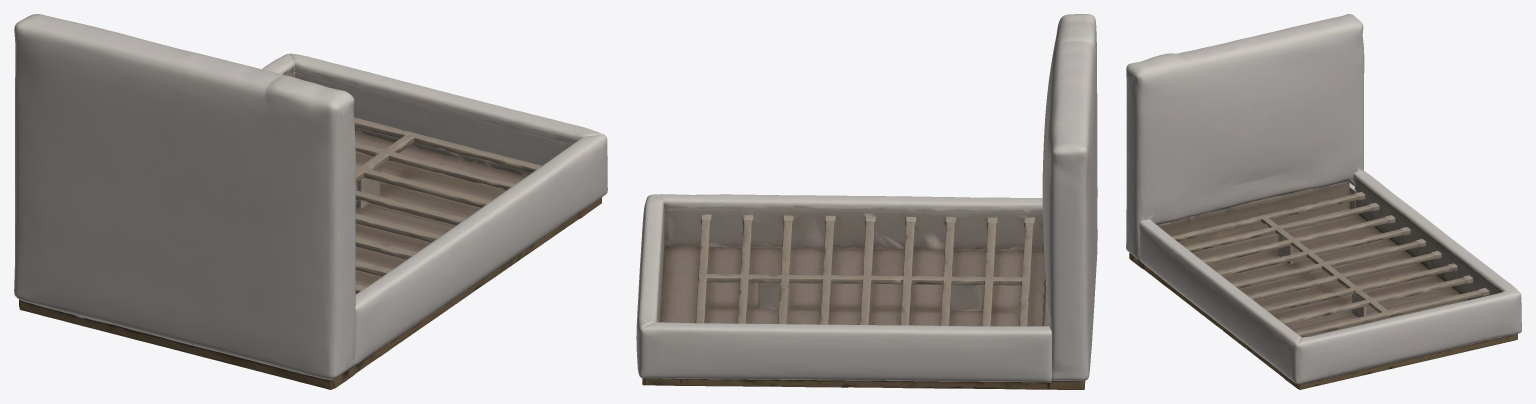
Rendered from caravanafurniture-com-products-upholstered-cream-boucle-bed--2ef65e.glb.
3 views of the same model, side by side, from view 1: azimuth 30°, elevation 25°; view 2: azimuth 150°, elevation 25°; view 3: azimuth 270°, elevation 25° (orthographic). The views are drawn at different scales.
Parts seen in each view (by area): view 1: tripo_node_dba276a9-68d4-4789-ae1d-bccc125fa964; view 2: tripo_node_dba276a9-68d4-4789-ae1d-bccc125fa964; view 3: tripo_node_dba276a9-68d4-4789-ae1d-bccc125fa964.
Part boxes in pixels (left/top/right/bottom): tripo_node_dba276a9-68d4-4789-ae1d-bccc125fa964: left=14, top=14, right=607, bottom=389; tripo_node_dba276a9-68d4-4789-ae1d-bccc125fa964: left=636, top=14, right=1097, bottom=389; tripo_node_dba276a9-68d4-4789-ae1d-bccc125fa964: left=1126, top=14, right=1521, bottom=389.
Bounding box in the file's own units: 1.19 × 0.5971 × 1.08.
Materials: 1 (1 with a texture image).
